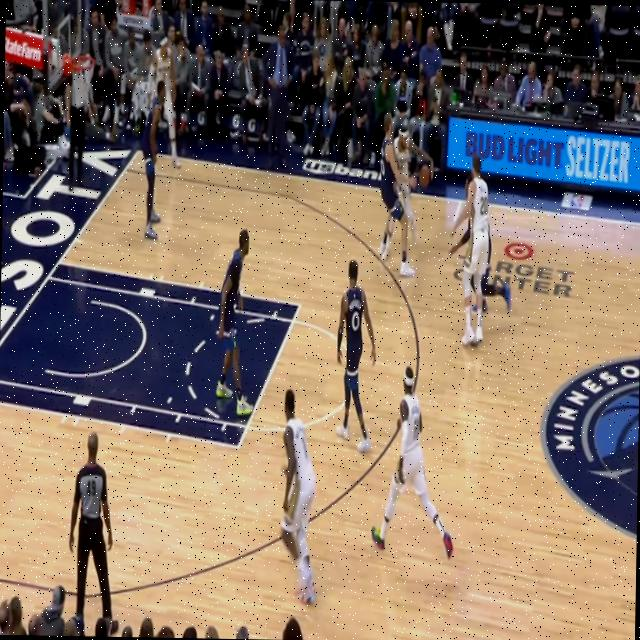Foul: (376, 110, 433, 269)
